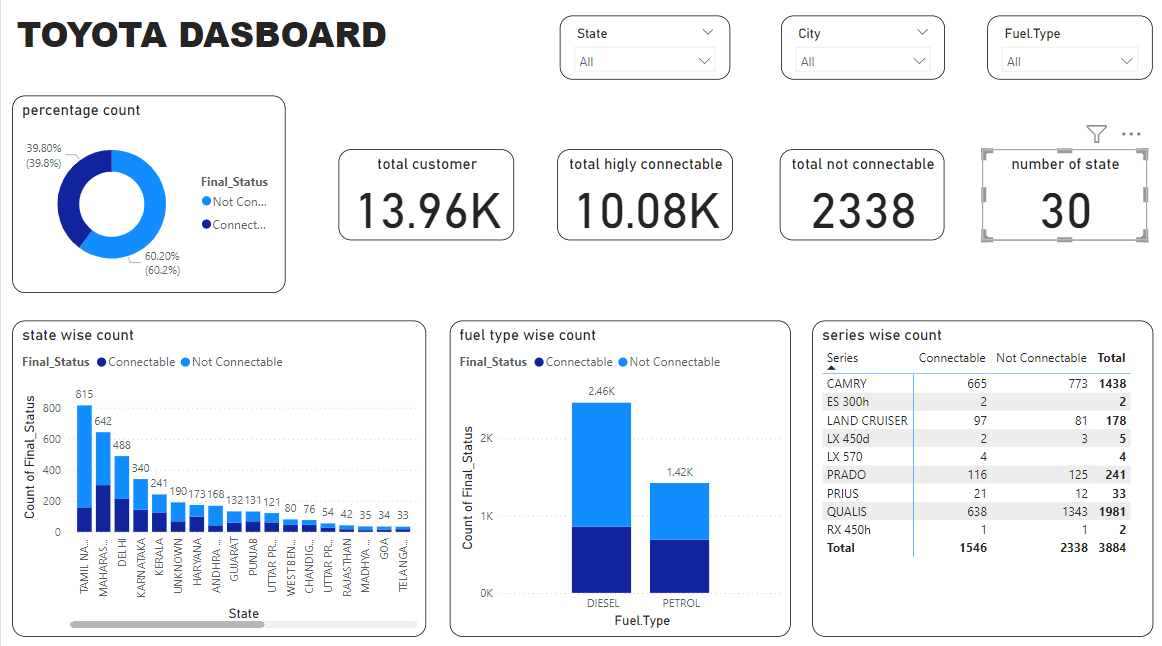

The page's visual inventory and layout, read from the dashboard file:
{"tool":"powerbi","page":{"name":"Page 1","canvas":[1280,720],"ordinal":0},"visuals":[{"type":"columnChart","title":"state wise count","fields":{"Category":["Sheet1.State"],"Y":["CountNonNull(Sheet1.Final_Status)"],"Series":["Sheet1.Final_Status"]},"box":[12.9,360,454.3,347.1],"z":0},{"type":"card","title":"total higly connectable","fields":{"Values":["CountNonNull(Sheet1.VIN.No)"]},"box":[610,171.4,192.9,100],"z":1000},{"type":"card","title":"total customer","fields":{"Values":["Count(Sheet1.VIN.No)"]},"box":[370,171.4,192.9,100],"z":2000},{"type":"card","title":"total not connectable","fields":{"Values":["CountNonNull(Sheet1.Final_Status)"]},"box":[854.9,171.5,181.1,100.2],"z":3000},{"type":"slicer","fields":{"Values":["Sheet1.State"]},"box":[612.9,24.3,187.1,70],"z":5000},{"type":"slicer","fields":{"Values":["Sheet1.City"]},"box":[855.7,24.3,180,70],"z":6000},{"type":"slicer","fields":{"Values":["Sheet1.Fuel.Type"]},"box":[1082.9,24.3,181.4,70],"z":7000},{"type":"columnChart","title":"fuel type wise count","fields":{"Category":["Sheet1.Fuel.Type"],"Series":["Sheet1.Final_Status"],"Y":["CountNonNull(Sheet1.Final_Status)"]},"box":[492.9,360,374.3,347.1],"z":8000},{"type":"pivotTable","title":"series wise count","fields":{"Rows":["Sheet1.Series"],"Values":["CountNonNull(Sheet1.Final_Status)"],"Columns":["Sheet1.Final_Status"]},"box":[890,360,374.3,347.1],"z":9000},{"type":"textbox","box":[12.9,14.3,537.1,77.1],"z":10000},{"type":"donutChart","title":"percentage count","fields":{"Category":["Sheet1.Final_Status"],"Y":["Divide(CountNonNull(Sheet1.Final_Status), ScopedEval(CountNonNull(Sheet1.Final_Status), []))"]},"box":[12.9,112.9,300,217.1],"z":11000},{"type":"card","title":"number of state","fields":{"Values":["Count(Sheet1.State)"]},"box":[1077.2,171.5,181.1,100.2],"z":11001}]}

Visuals, with their boxes in screenshot pixels (x1, y1, x2, y2), scaled from the page's 1280x720 canvas onto the 1162x646 screenshot:
"state wise count" columnChart: locate(12, 323, 424, 634)
"total higly connectable" card: locate(554, 154, 729, 244)
"total customer" card: locate(336, 154, 511, 244)
"total not connectable" card: locate(776, 154, 940, 244)
slicer - Sheet1.State: locate(556, 22, 726, 85)
slicer - Sheet1.City: locate(777, 22, 940, 85)
slicer - Sheet1.Fuel.Type: locate(983, 22, 1148, 85)
"fuel type wise count" columnChart: locate(447, 323, 787, 634)
"series wise count" pivotTable: locate(808, 323, 1148, 634)
textbox: locate(12, 13, 499, 82)
"percentage count" donutChart: locate(12, 101, 284, 296)
"number of state" card: locate(978, 154, 1142, 244)
